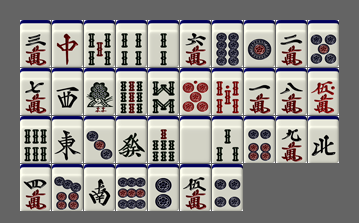0m: (308, 68, 339, 115)
0p: (180, 68, 211, 115)
0s: (212, 68, 243, 115)
1m: (244, 68, 275, 115)
1p: (244, 20, 275, 67)
1s: (84, 68, 115, 115)
1z: (52, 116, 83, 163)
2m: (276, 20, 307, 67)
2p: (148, 164, 179, 211)
2s: (148, 20, 179, 67)
2z: (84, 164, 115, 211)
3m: (20, 20, 51, 67)
3p: (84, 116, 115, 163)
3s: (212, 116, 243, 163)
3z: (52, 68, 83, 115)
4m: (20, 164, 51, 211)
4p: (212, 164, 243, 211)
4s: (116, 20, 147, 67)
4z: (308, 116, 339, 163)
5m: (180, 164, 211, 211)
5p: (308, 20, 339, 67)
5s: (84, 20, 115, 67)
5z: (180, 116, 211, 163)
6m: (180, 20, 211, 67)
6p: (244, 116, 275, 163)
6s: (20, 116, 51, 163)
6z: (116, 116, 147, 163)
7m: (20, 68, 51, 115)
7p: (52, 164, 83, 211)
7s: (148, 116, 179, 163)
7z: (52, 20, 83, 67)
8m: (276, 68, 307, 115)
8p: (212, 20, 243, 67)
8s: (148, 68, 179, 115)
9m: (276, 116, 307, 163)
9p: (116, 164, 147, 211)
9s: (116, 68, 147, 115)
